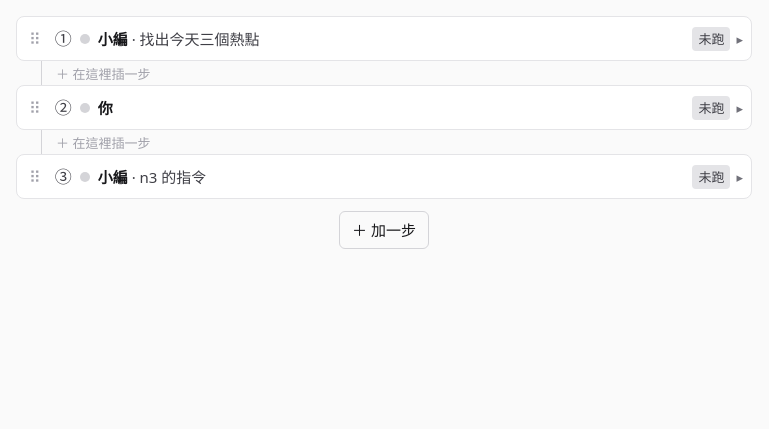
Test: 一步一行（閱讀模式） › 等我看那一步展開後只有名稱可改，還有一句白話
The image size is (769, 429).
Click the button with test id "station-n2-row": (63, 108) left=51, top=92, right=686, bottom=123
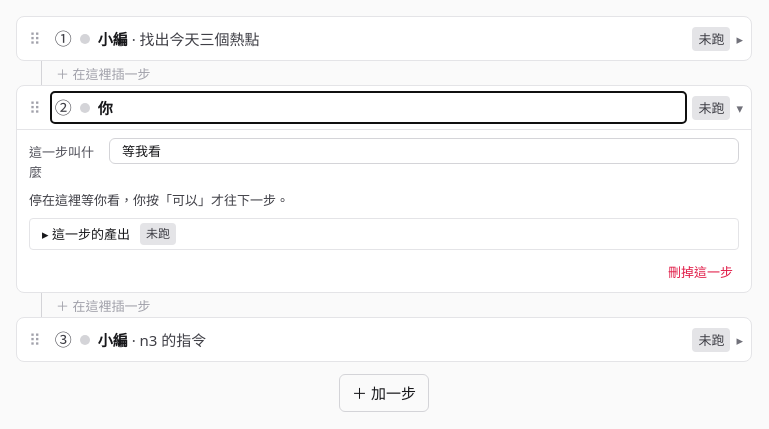
Check: the field with test id "station-n2-title" holds "等我看", box left=109, top=138, right=739, bottom=164
Check: the list item with test id "station-n2" shows "停在這裡等你看", box left=29, top=191, right=289, bottom=209
